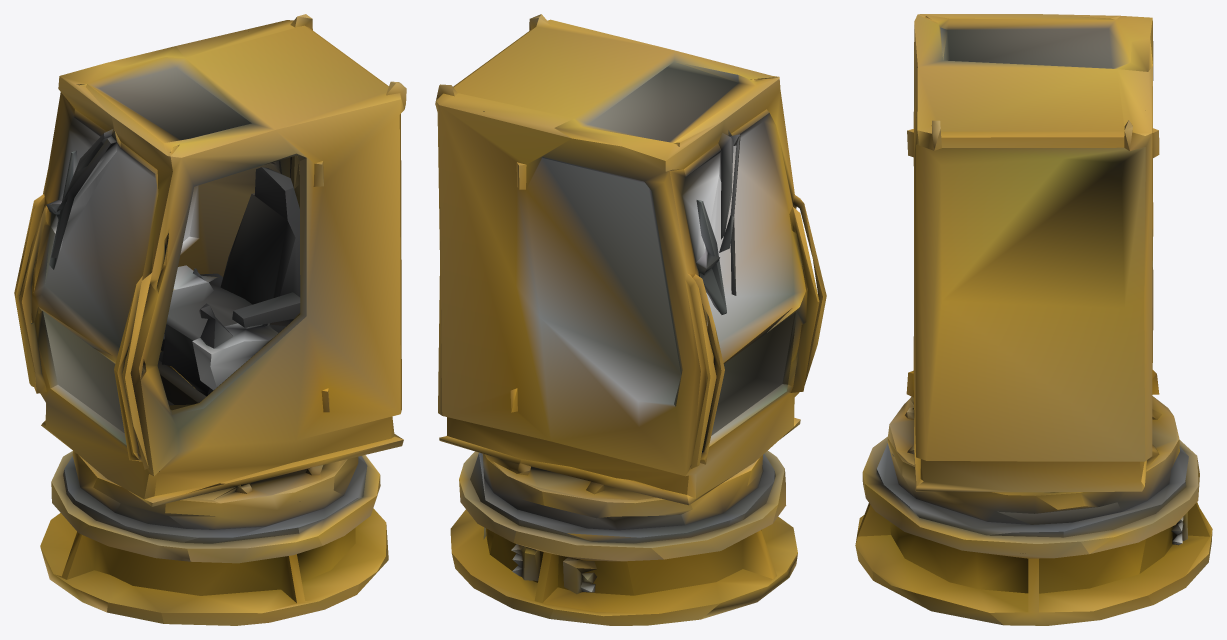
Rendered from crane_cab.glb.
The picture shows the model from 3 angles, left to right: view 1: azimuth 30°, elevation 25°; view 2: azimuth 150°, elevation 25°; view 3: azimuth 270°, elevation 25°; orthographic projection. The views are drawn at different scales.
Visible parts, largest first — view 1: world; view 2: world; view 3: world.
Part boxes in pixels (x1,y1,x2,y2): world: (14, 14, 406, 625); world: (435, 14, 826, 625); world: (855, 14, 1212, 625).
Size of the model in its own units: 2.84 by 4.2 by 2.75.
